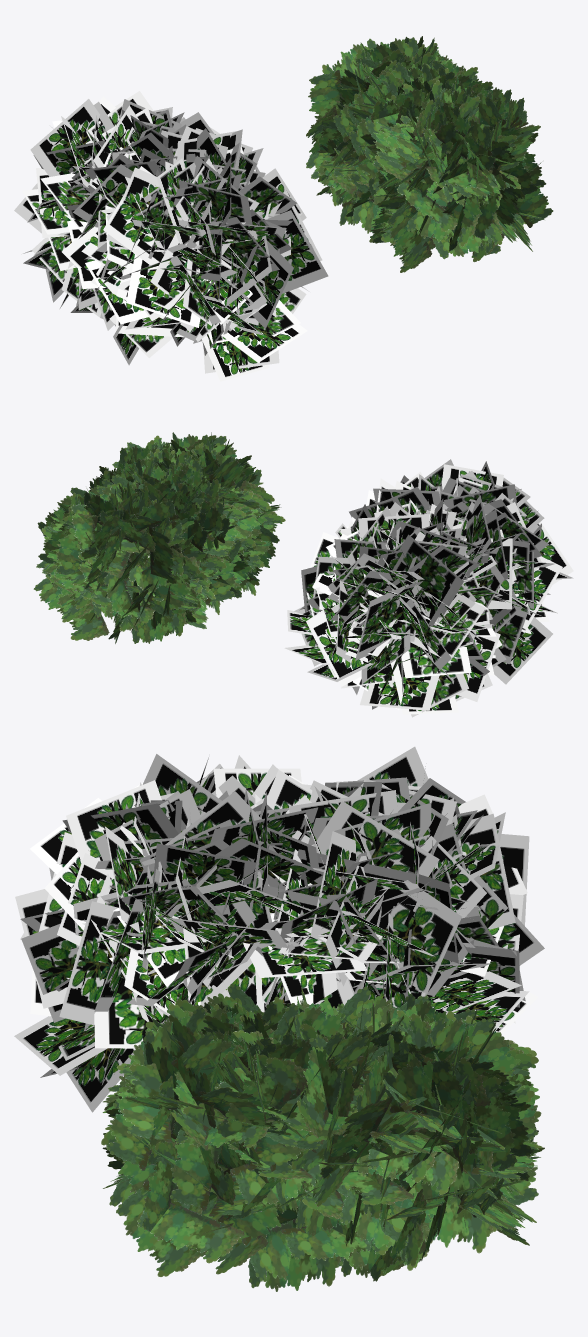
File: bushes.glb
3 renders of one model, top to bottom at view 1: azimuth 30°, elevation 25°; view 2: azimuth 150°, elevation 25°; view 3: azimuth 270°, elevation 25°, orthographic. The views are drawn at different scales.
Visible parts, largest first — view 1: leavebush.409, leavebush.689; view 2: leavebush.409, leavebush.689; view 3: leavebush.409, leavebush.689.
Part boxes in pixels (left/top/right/bottom): leavebush.409: left=14, top=91, right=328, bottom=381; leavebush.689: left=306, top=36, right=553, bottom=272; leavebush.409: left=284, top=459, right=573, bottom=717; leavebush.689: left=33, top=432, right=285, bottom=643; leavebush.409: left=14, top=746, right=544, bottom=1112; leavebush.689: left=101, top=983, right=544, bottom=1291.
Bounding box in the file's own units: 7.24 × 3.07 × 4.9.
2 materials, 2 textured.
